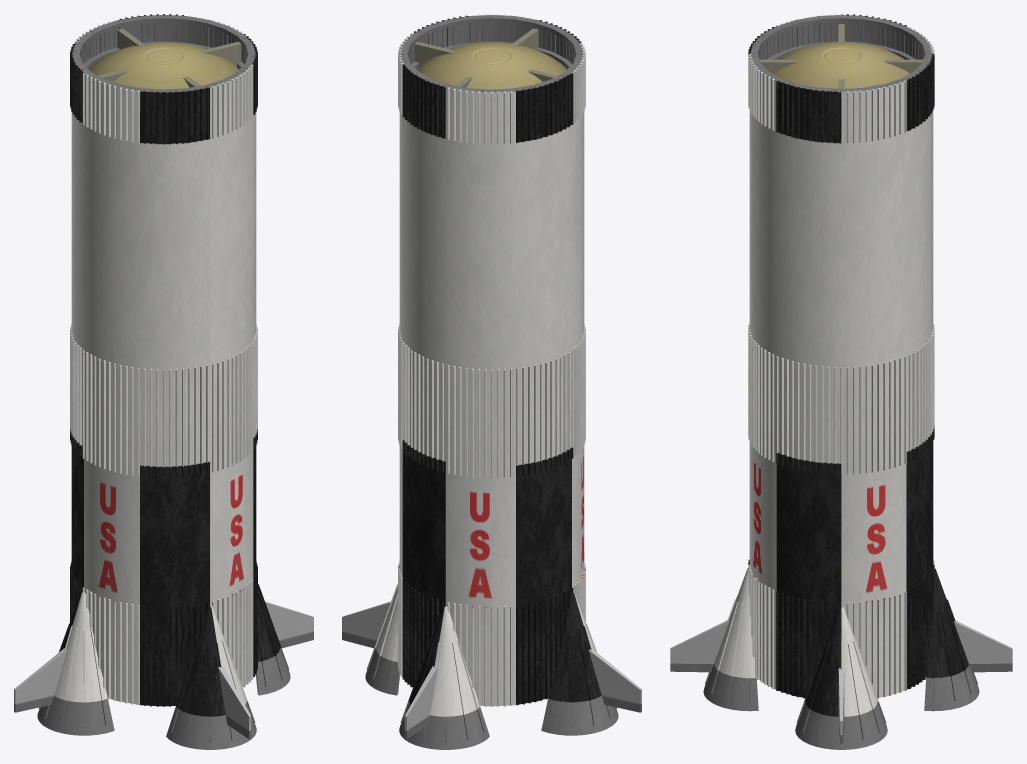
Rendered from ksprocket.fbx.
3 views of the same model, side by side, from view 1: azimuth 30°, elevation 25°; view 2: azimuth 150°, elevation 25°; view 3: azimuth 270°, elevation 25° (orthographic).
Visible parts, largest first — view 1: tank.010, fairing.005, bits.006; view 2: tank.010, fairing.005, bits.006; view 3: tank.010, fairing.005, bits.006.
Part boxes in pixels (bbox=[...]): tank.010: bbox=[70, 14, 257, 706]; fairing.005: bbox=[14, 584, 313, 749]; bits.006: bbox=[71, 15, 256, 92]; tank.010: bbox=[398, 14, 585, 706]; fairing.005: bbox=[342, 584, 641, 749]; bits.006: bbox=[399, 15, 584, 92]; tank.010: bbox=[748, 14, 934, 698]; fairing.005: bbox=[670, 568, 1012, 749]; bits.006: bbox=[750, 15, 932, 92].
Bounding box in the file's own units: 1885 × 3876 × 1885.
